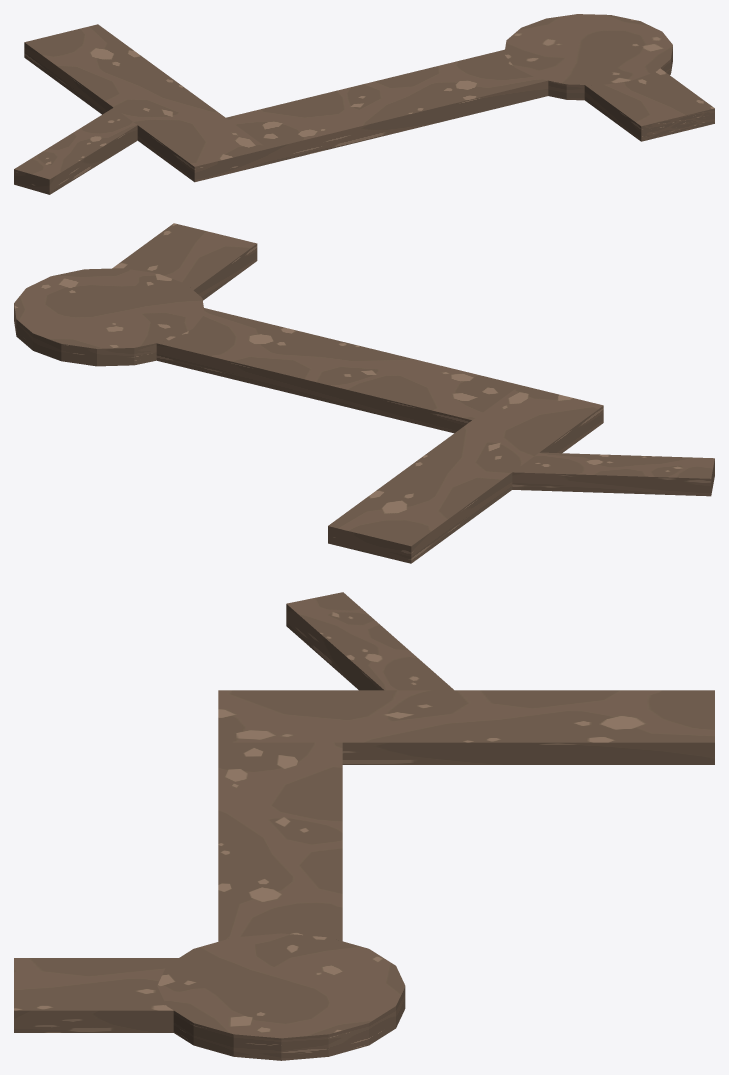
File: road.glb
3 renders of one model, top to bottom at view 1: azimuth 30°, elevation 25°; view 2: azimuth 150°, elevation 25°; view 3: azimuth 270°, elevation 25°, orthographic. The views are drawn at different scales.
Parts seen in each view (by area): view 1: Cube.109; view 2: Cube.109; view 3: Cube.109.
Part boxes in pixels (x1,y1,x2,y2): Cube.109: [14, 14, 714, 194]; Cube.109: [14, 223, 714, 563]; Cube.109: [14, 592, 714, 1060].
Size of the model in its own units: 8.5 by 0.2 by 5.65.
1 material, 1 textured.
